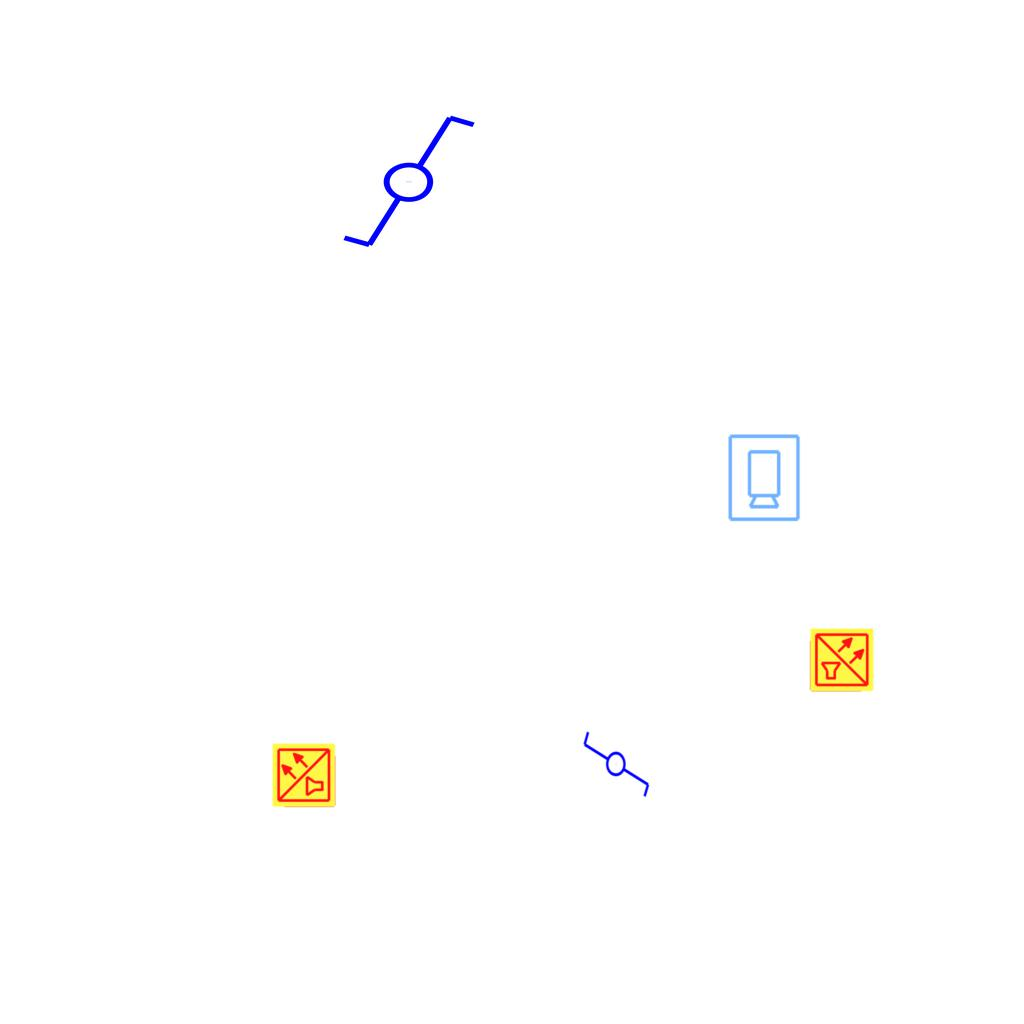KFO_Kamera_mit_Festobjektiv: (725, 432, 802, 523)
OKW_Multisensormelder_(Kombination_optischer_Rauch-Kahlenmonoxid_Waerme-Melder): (271, 742, 337, 808), (809, 627, 875, 693)
Wechselschalter: (322, 108, 479, 252), (581, 721, 653, 799)
